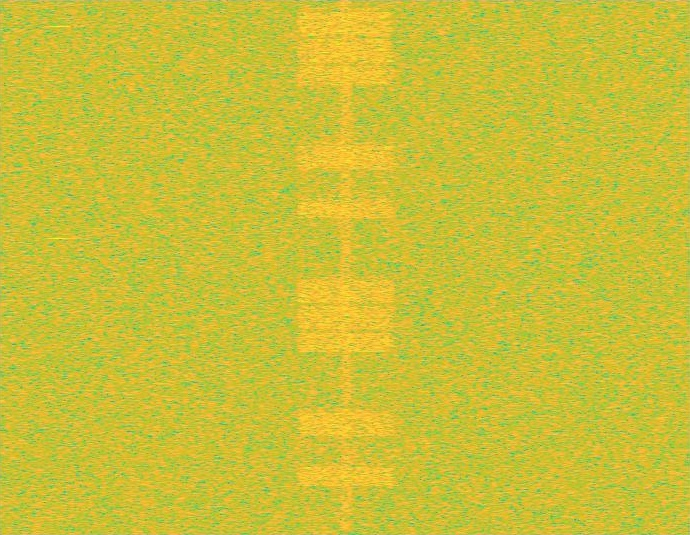DSSS: (339, 0, 353, 534)
LTE: (294, 0, 398, 534)
Radar: (52, 0, 66, 534)
